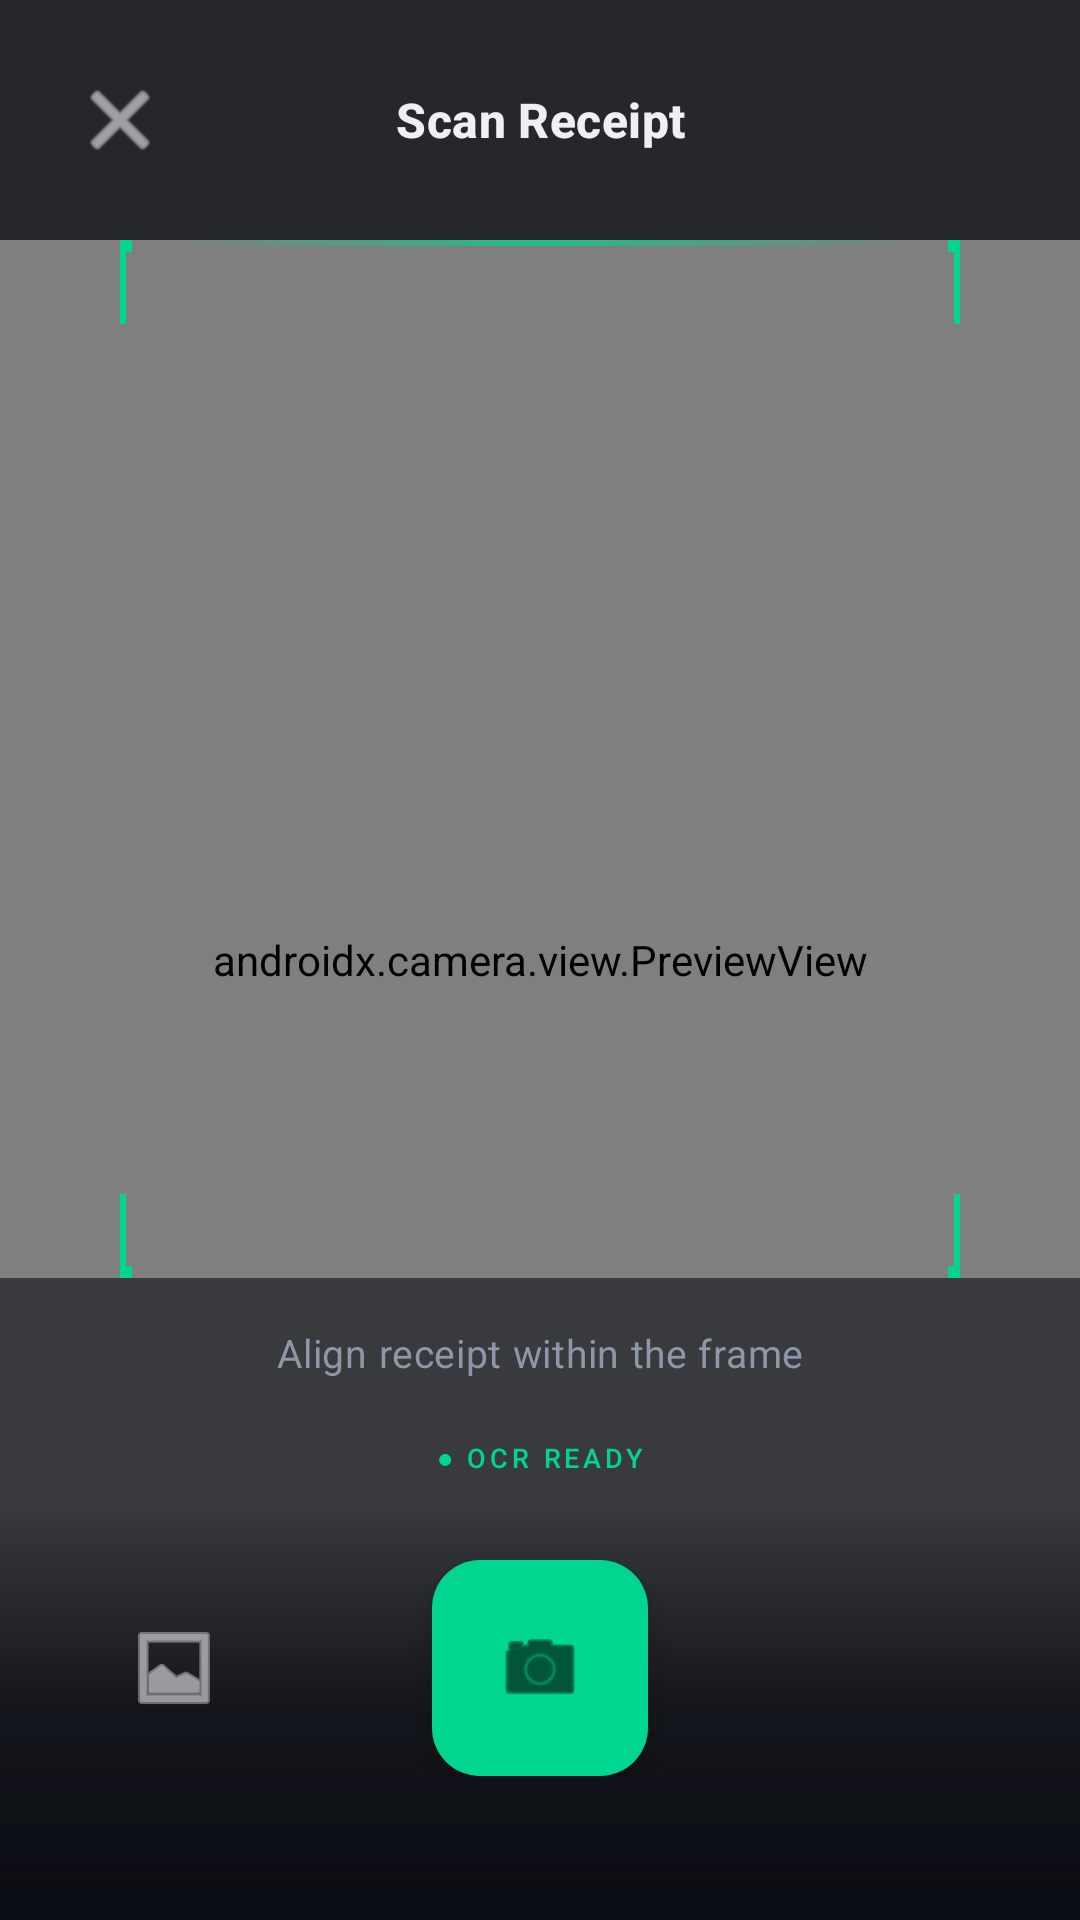

Named icons in this screenshot (1080 x 1920) and their centers, [x,y]:
Capture Receipt: [540,1668]
Close: [120,120]
Gallery: [174,1668]
